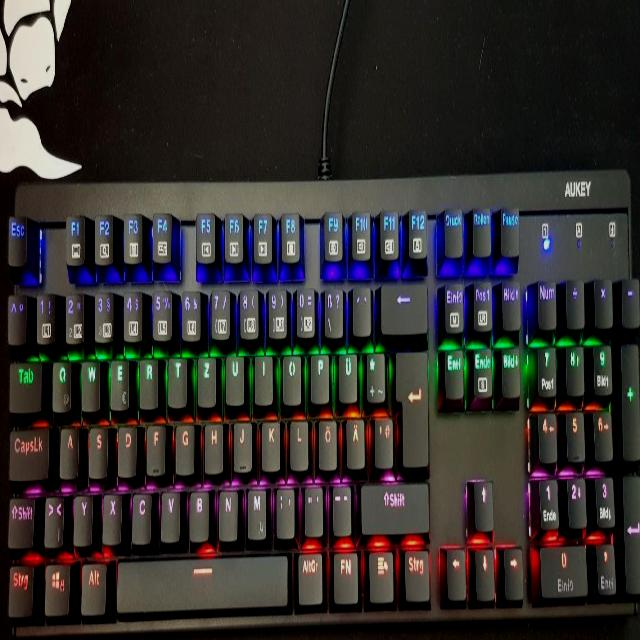0: (295, 284, 315, 339)
1: (35, 290, 55, 346)
2: (64, 288, 84, 345)
3: (94, 291, 114, 344)
4: (122, 290, 144, 347)
5: (151, 288, 173, 345)
6: (180, 285, 202, 342)
7: (209, 285, 231, 345)
8: (237, 282, 259, 342)
9: (266, 282, 288, 342)
a: (58, 421, 78, 478)
accent: (351, 281, 371, 335)
ae: (344, 414, 364, 469)
alt-left: (79, 561, 107, 616)
altgr-right: (295, 546, 323, 606)
b: (189, 484, 209, 541)
c: (131, 487, 152, 544)
caret: (6, 290, 26, 344)
comma: (275, 482, 295, 537)
d: (116, 420, 136, 476)
del: (379, 278, 427, 334)
e: (109, 355, 129, 410)
enter: (394, 346, 428, 469)
f: (145, 418, 165, 474)
g: (174, 417, 195, 474)
h: (203, 417, 223, 473)
hash: (373, 412, 393, 467)
i: (253, 350, 273, 403)
j: (232, 416, 252, 471)
k: (260, 416, 280, 471)
keyboard: (0, 161, 640, 640)
l: (288, 415, 308, 470)
less: (43, 492, 63, 546)
m: (246, 482, 266, 539)
minus: (332, 480, 352, 533)
n: (218, 484, 238, 541)
o: (281, 350, 301, 404)
oe: (317, 415, 337, 470)
p: (309, 349, 329, 402)
plus: (364, 348, 385, 402)
point: (303, 481, 323, 534)
q: (50, 357, 71, 412)
r: (138, 354, 158, 408)
s: (87, 421, 107, 477)
shift-left: (6, 492, 34, 547)
shift-lock: (7, 422, 49, 480)
shift-right: (359, 478, 429, 532)
space: (114, 551, 288, 613)
ss: (323, 283, 343, 338)
strg-left: (6, 561, 34, 616)
strg-right: (402, 542, 430, 602)
t: (167, 353, 187, 406)
tab: (7, 356, 41, 412)
u: (225, 350, 245, 404)
ue: (337, 348, 357, 402)
v: (160, 486, 180, 541)
w: (80, 356, 100, 410)
x: (102, 488, 122, 543)
y: (72, 490, 92, 545)
z: (196, 352, 216, 406)
